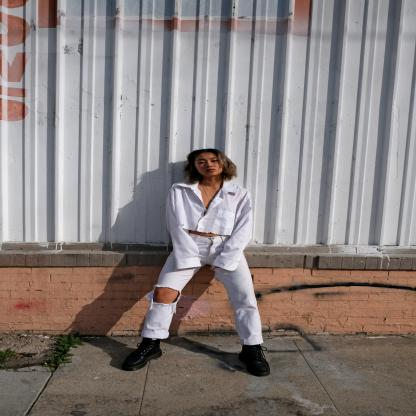dress: (167, 178, 255, 272)
